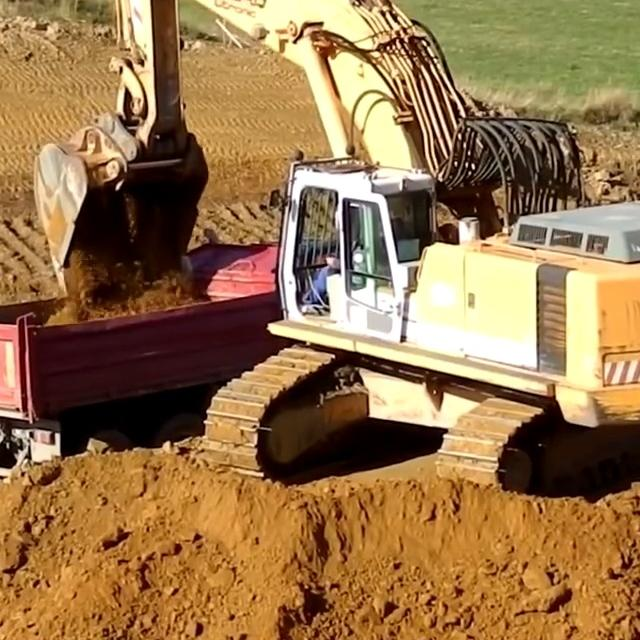Excavator: (32, 0, 640, 493)
Person: (305, 242, 368, 307)
dump truck: (0, 242, 293, 481)
